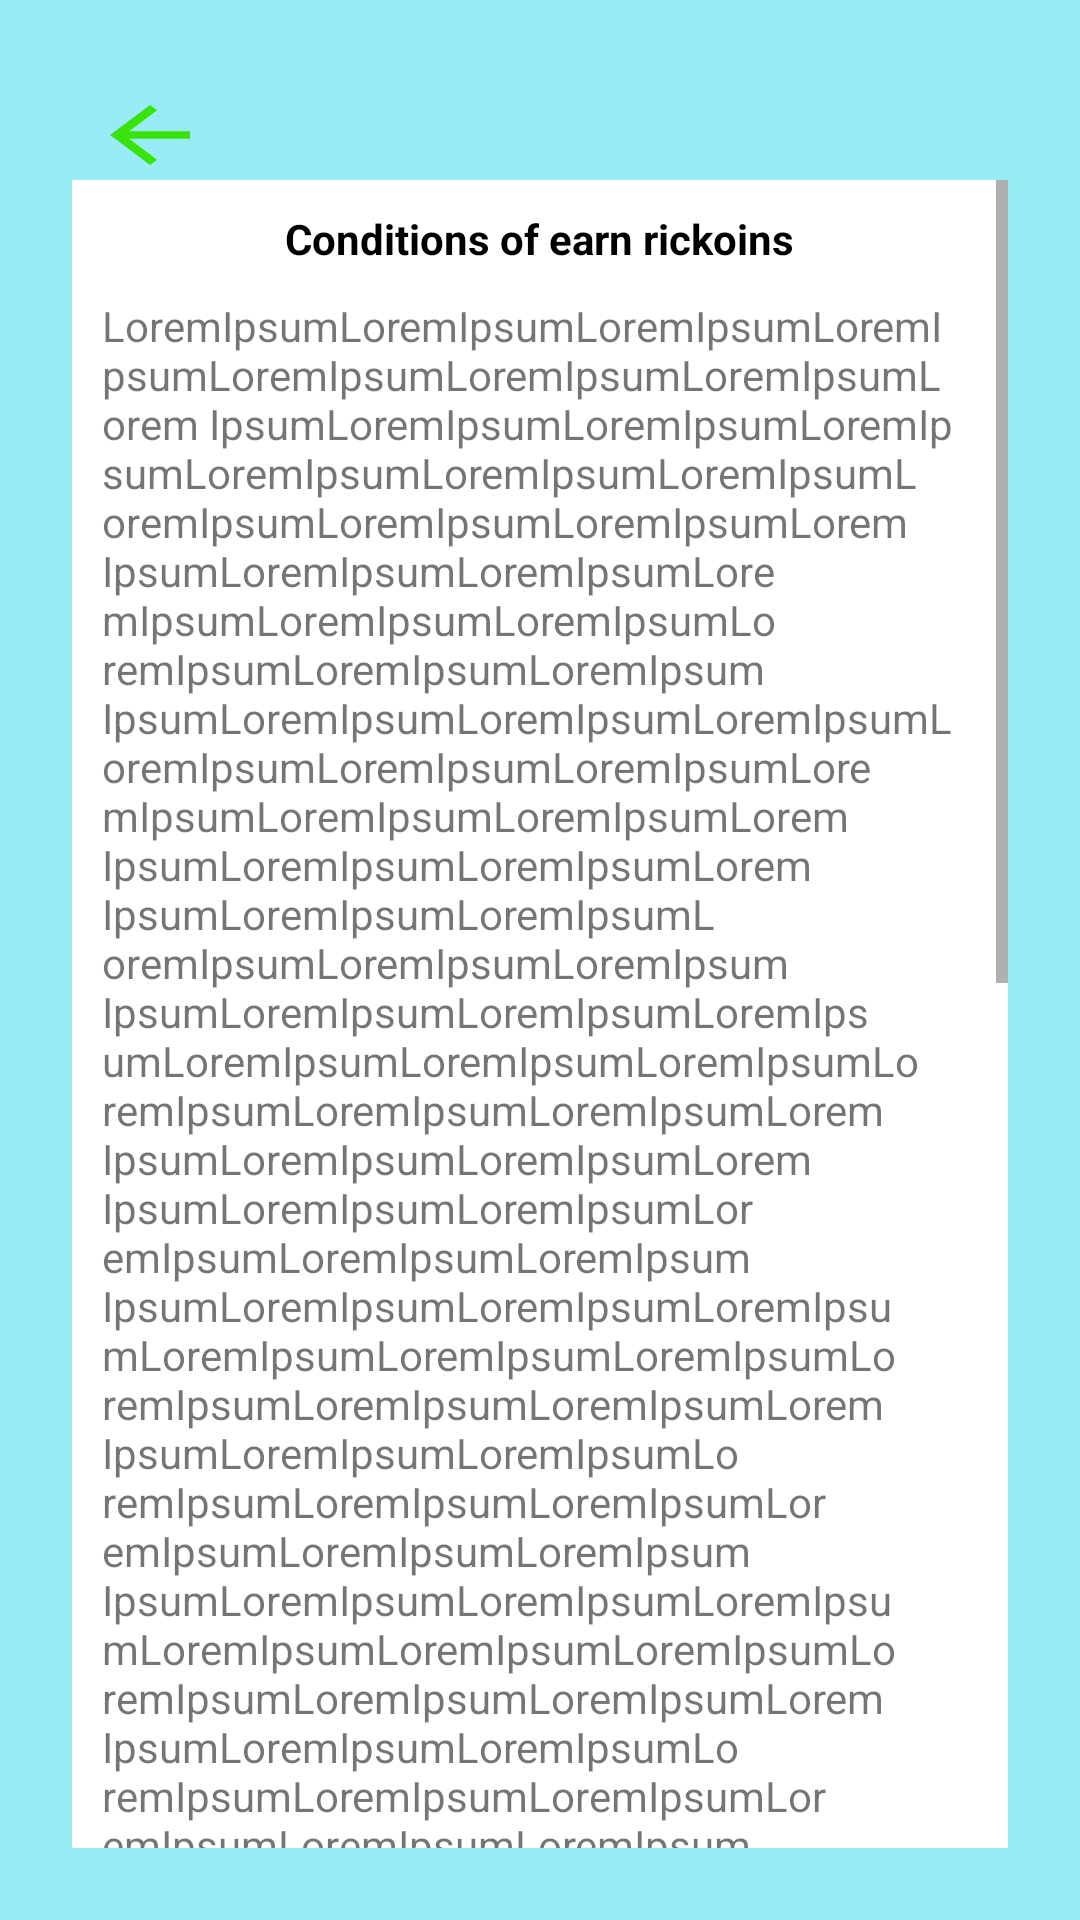

Icons on this 1080x1920 Android screen, each with its box as (x1=x1, y1=y1, x2=x2, y2=y2):
arrow back: (x1=110, y1=105, x2=190, y2=165)
